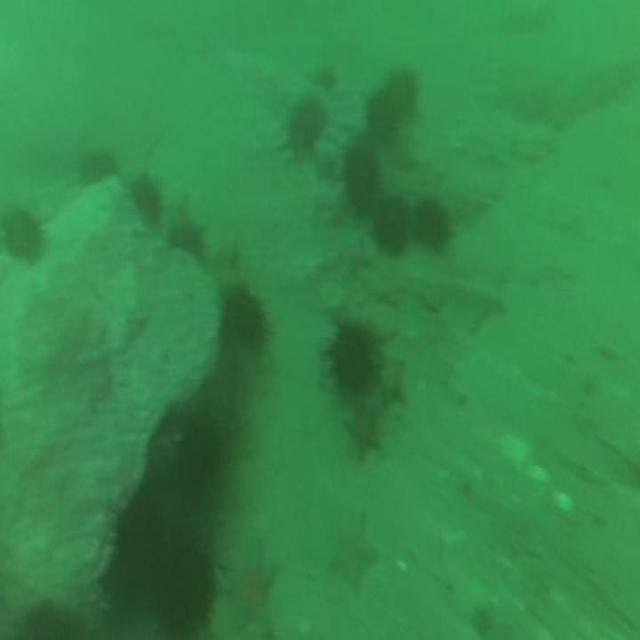echinus: (160, 546, 214, 638), (117, 492, 162, 578), (179, 412, 222, 500), (224, 286, 264, 356), (332, 322, 374, 388), (345, 138, 378, 216), (286, 93, 324, 155), (6, 210, 41, 262), (375, 199, 407, 251), (390, 66, 418, 122), (414, 199, 447, 245), (363, 87, 393, 137), (132, 174, 158, 227), (171, 217, 201, 254), (83, 150, 111, 185)
starfish: (226, 536, 276, 637), (329, 515, 372, 588), (345, 400, 383, 460)
